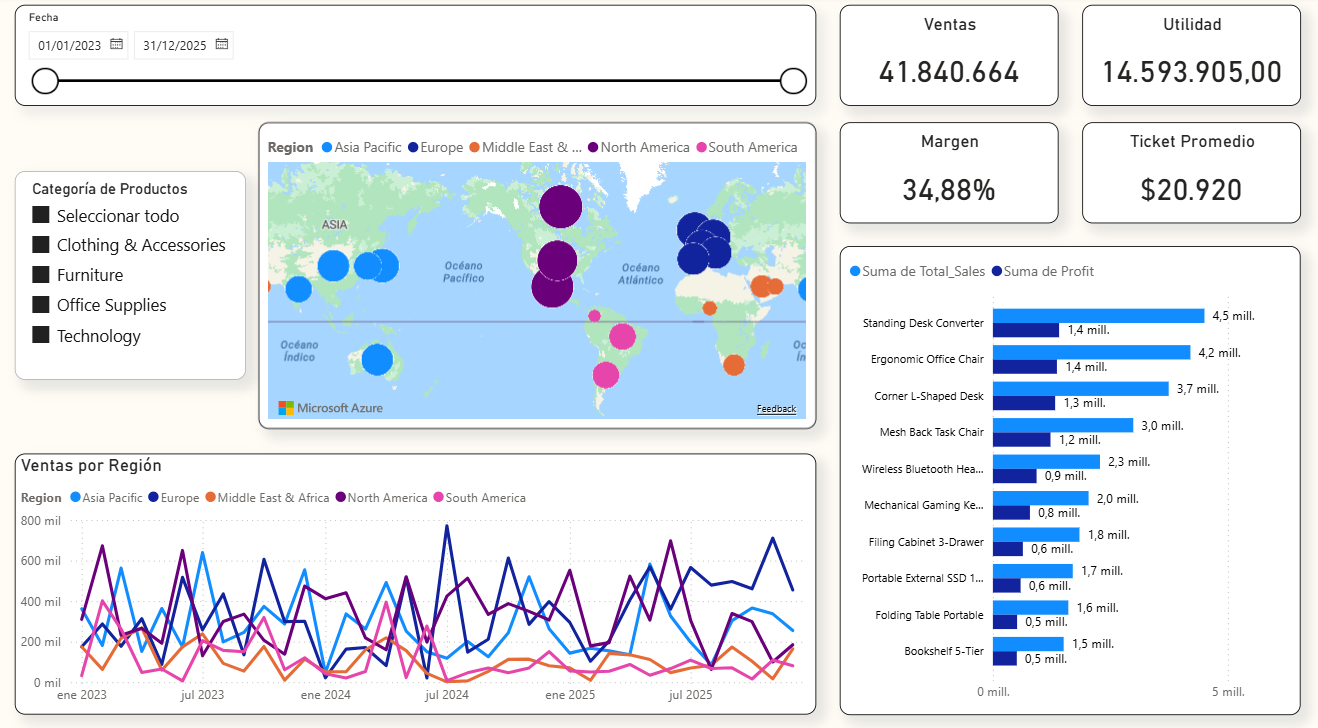

The page's visual inventory and layout, read from the dashboard file:
{"tool":"powerbi","page":{"name":"Página 1","canvas":[1280,720],"ordinal":0},"visuals":[{"type":"slicer","fields":{"Values":["Global_Sales (2).Product_Category"]},"box":[18.1,168.9,223.2,201.5],"z":0},{"type":"azureMap","fields":{"Size":["Sum(Global_Sales (2).Total_Sales)"],"Series":["Global_Sales (2).Region"],"Category":["Global_Sales (2).Country"]},"box":[253.1,122.3,538,295.9],"z":1000},{"type":"lineChart","title":"Ventas por Región","fields":{"Category":["Calendario.Fecha.Variación.Jerarquía de fechas.Año","Calendario.Fecha.Variación.Jerarquía de fechas.Mes"],"Series":["Global_Sales (2).Region"],"Y":["Sum(Global_Sales (2).Total_Sales)"]},"box":[18.1,441.6,773.3,252.1],"z":2000},{"type":"clusteredBarChart","fields":{"Y":["Sum(Global_Sales (2).Total_Sales)","Sum(Global_Sales (2).Profit)"],"Category":["Global_Sales (2).Product_Name"]},"box":[814.4,240.9,445.1,452.4],"z":3000},{"type":"slicer","fields":{"Values":["Calendario.Fecha"]},"box":[18.1,8.4,773.3,97.7],"z":4000},{"type":"card","title":"Ventas","fields":{"Values":["Sum(Global_Sales (2).Total_Sales)"]},"box":[814.4,8.6,211.6,97.8],"z":5000},{"type":"card","title":"Utilidad","fields":{"Values":["Sum(Global_Sales (2).Profit)"]},"box":[1048,8.6,211.6,97.8],"z":6000},{"type":"card","title":"Margen","fields":{"Values":["Calendario.Margen"]},"box":[814.4,122.3,211.6,97.8],"z":7000},{"type":"card","title":"Ticket Promedio","fields":{"Values":["Calendario.Ticket Promedio"]},"box":[1048,122.3,211.6,97.8],"z":8000}]}

Visuals, with their boxes in screenshot pixels (x1, y1, x2, y2), scaled from the page's 1280x720 canvas onto the 1318x728 screenshot:
slicer - Global_Sales (2).Product_Category: x1=19 y1=171 x2=248 y2=375
azureMap - Sum(Global_Sales (2).Total_Sales) x Global_Sales (2).Region: x1=261 y1=124 x2=815 y2=423
"Ventas por Región" lineChart: x1=19 y1=447 x2=815 y2=701
clusteredBarChart - Sum(Global_Sales (2).Total_Sales) x Sum(Global_Sales (2).Profit): x1=839 y1=244 x2=1297 y2=701
slicer - Calendario.Fecha: x1=19 y1=8 x2=815 y2=107
"Ventas" card: x1=839 y1=9 x2=1056 y2=108
"Utilidad" card: x1=1079 y1=9 x2=1297 y2=108
"Margen" card: x1=839 y1=124 x2=1056 y2=223
"Ticket Promedio" card: x1=1079 y1=124 x2=1297 y2=223
